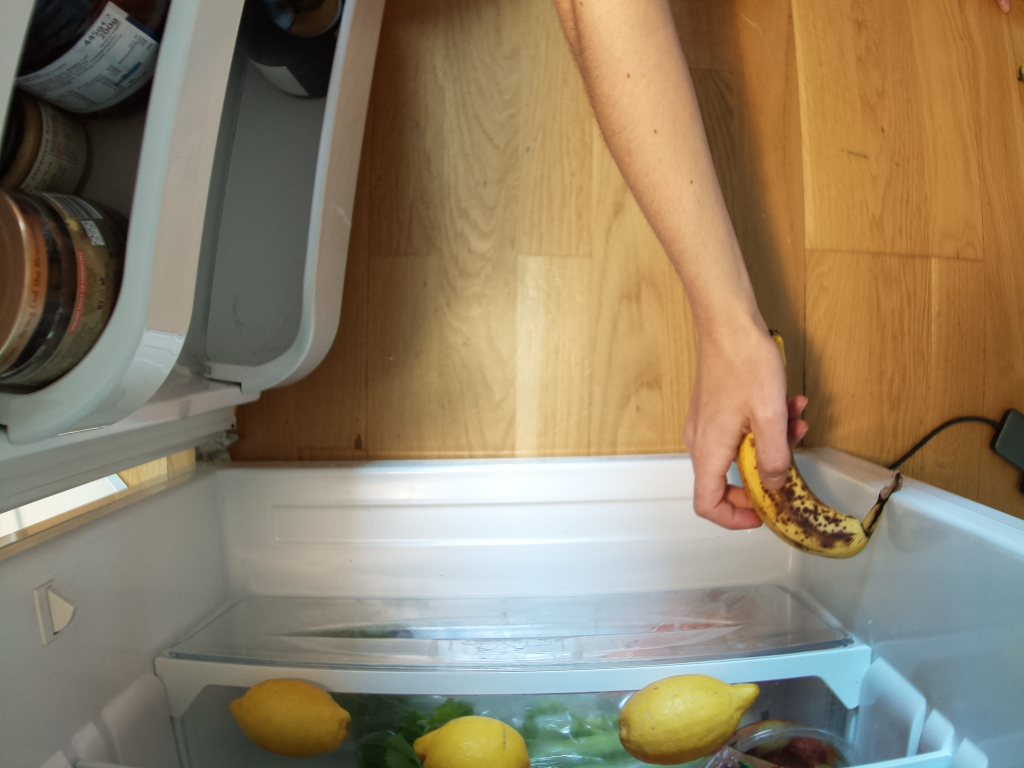banana-overripe: (742, 421, 903, 561)
